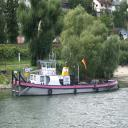tugboat: (11, 48, 122, 102)
